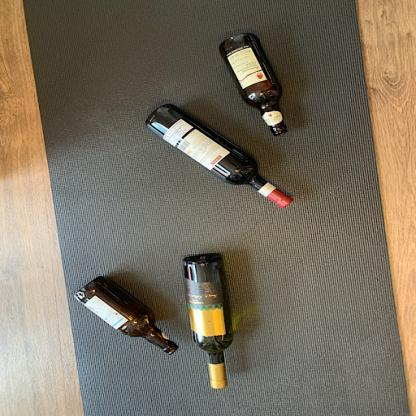trash: (143, 101, 295, 212), (73, 274, 180, 354), (182, 252, 236, 395), (218, 30, 287, 141)
